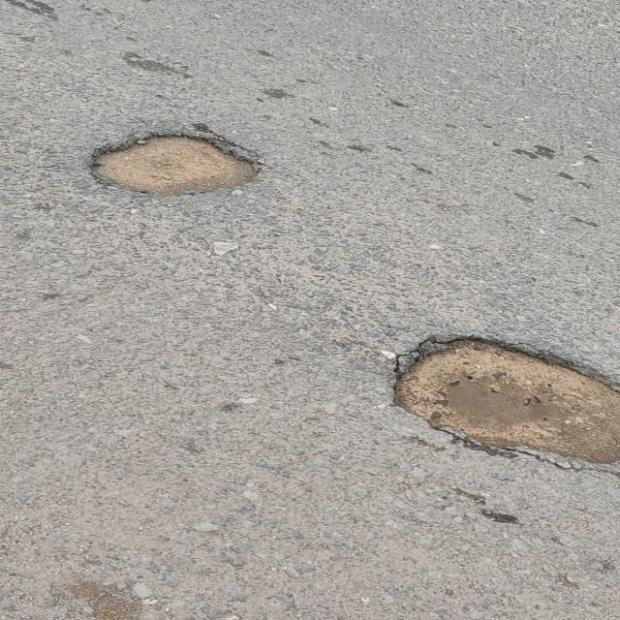lubang: (394, 338, 619, 474), (93, 134, 258, 195)
